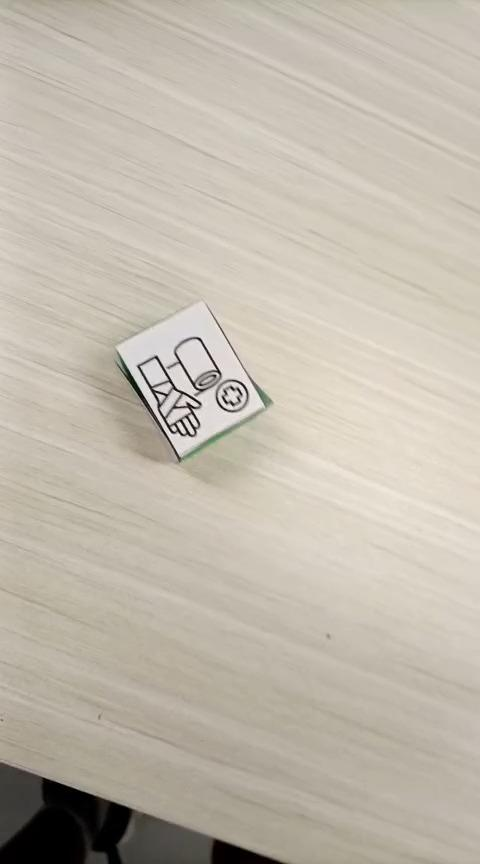Bandages: (113, 298, 271, 463)
